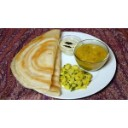dosa: (10, 28, 65, 98)
